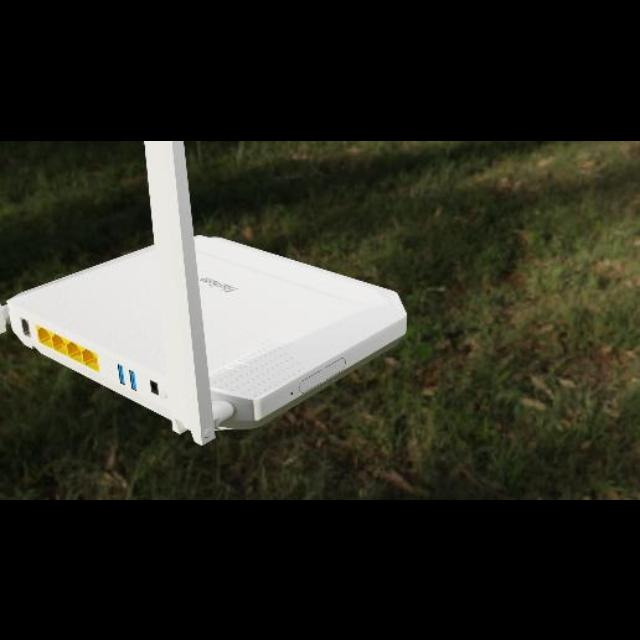Router: (1, 140, 410, 444)
